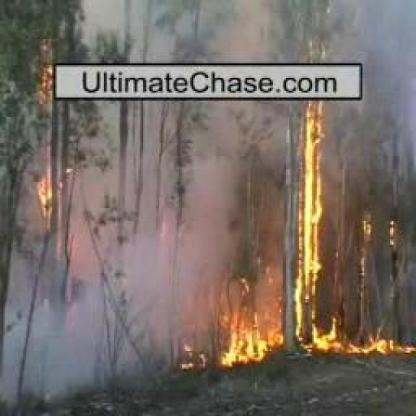fire: (204, 308, 412, 365), (297, 100, 324, 308), (35, 52, 59, 118), (34, 169, 62, 221), (357, 214, 377, 249), (387, 211, 398, 250)
